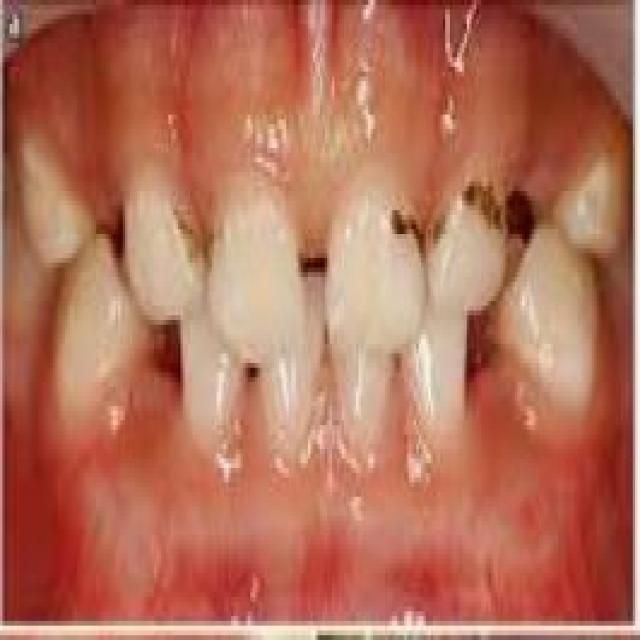caries: (381, 171, 443, 277), (456, 149, 510, 248)
